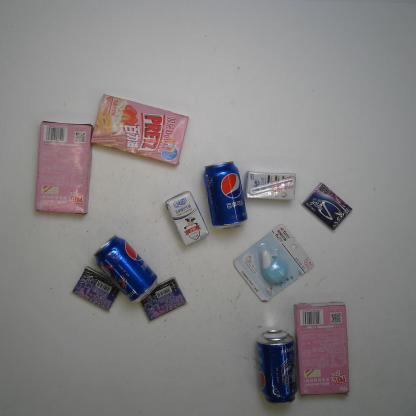Dessert: (91, 93, 190, 166), (35, 120, 94, 215), (294, 301, 350, 396)
Drink: (93, 235, 158, 303), (203, 161, 248, 230), (257, 329, 298, 404)
Gum: (301, 182, 353, 232), (140, 276, 187, 323), (72, 266, 120, 312)
Milk: (165, 191, 209, 246), (245, 171, 296, 200)
Stationery: (233, 224, 314, 302)
